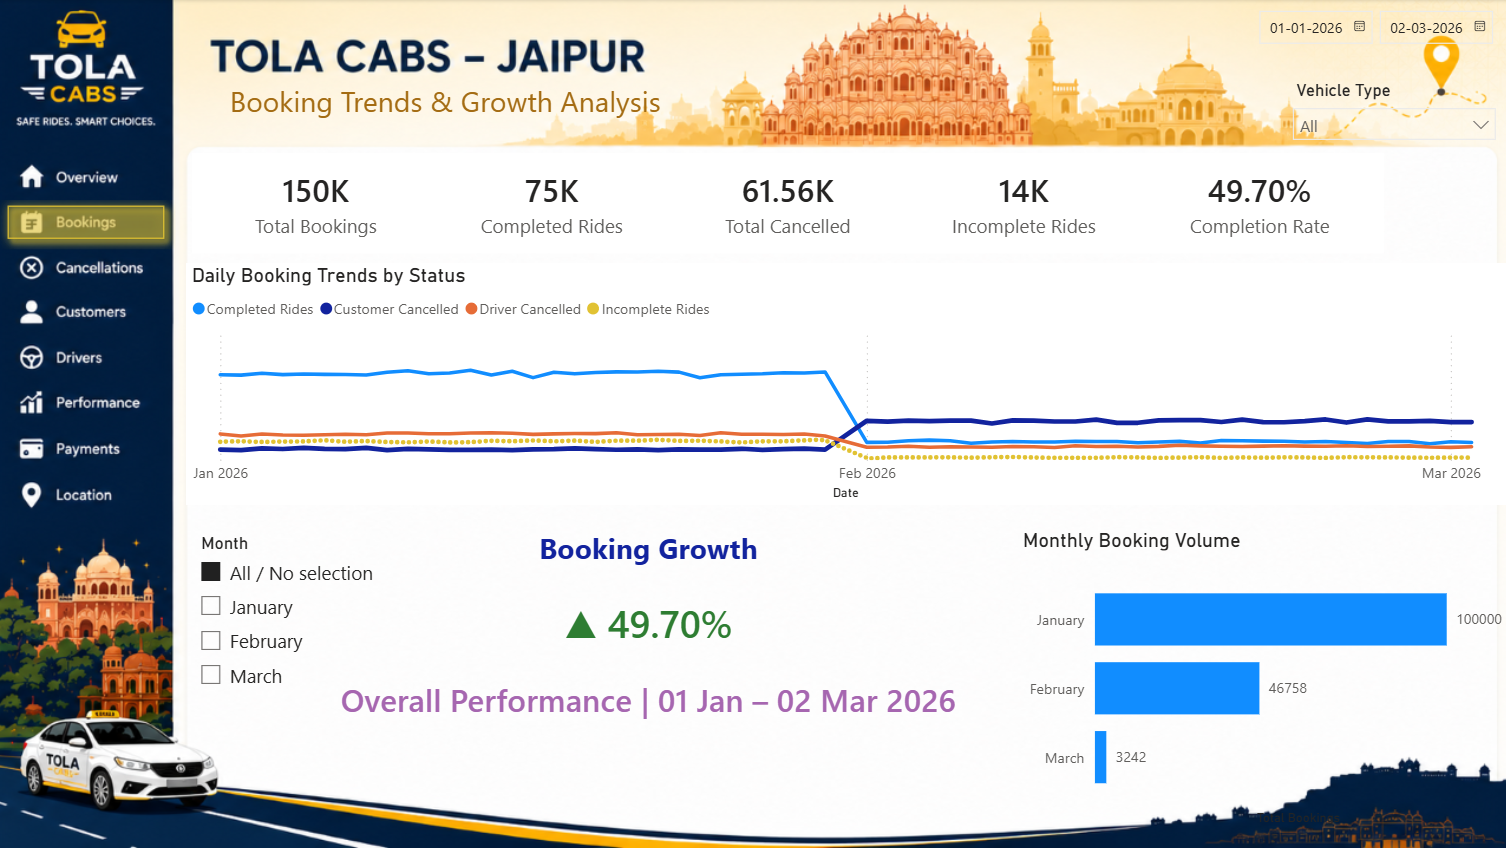

This screenshot's page, from the dashboard's own definition file:
{"tool":"powerbi","page":{"name":"02_Bookings","canvas":[1280,720],"ordinal":1},"visuals":[{"type":"shape","box":[0,165.8,150.7,46.1],"z":0},{"type":"actionButton","box":[0,401.1,150.6,42.9],"z":1000},{"type":"actionButton","box":[1.2,365.9,151,39.5],"z":2000},{"type":"actionButton","box":[1.2,326.4,149.8,39.5],"z":3000},{"type":"actionButton","box":[0,286.9,149.8,39.5],"z":4000},{"type":"actionButton","box":[1.2,247.4,149.8,39.5],"z":5000},{"type":"actionButton","box":[2.3,126.6,149.8,39.5],"z":6000},{"type":"actionButton","box":[1.2,210.2,149.8,39.5],"z":7000},{"type":"slicer","title":"Daily Booking Trends by Status","fields":{"Values":["Booking Month Selector.Month"]},"box":[160,448,176,192],"z":8000},{"type":"cardVisual","title":"Booking Growth","fields":{"Data":["_Measures.Dynamic Booking Growth Display","_Measures.Booking Growth Comparison"]},"box":[256,448,592,256],"z":9000},{"type":"barChart","title":"Monthly Booking Volume","fields":{"Category":["Calendar.Month"],"Y":["_Measures.Total Bookings"]},"box":[864,448,416,256],"z":10000},{"type":"cardVisual","fields":{"Data":["_Measures.Total Bookings"]},"box":[160,125,220,95],"z":11000},{"type":"cardVisual","fields":{"Data":["_Measures.Completed Rides"]},"box":[360,125,220,95],"z":12000},{"type":"cardVisual","fields":{"Data":["_Measures.Total Cancelled"]},"box":[560,125,220,95],"z":13000},{"type":"cardVisual","fields":{"Data":["_Measures.Incomplete Rides"]},"box":[760,125,220,95],"z":14000},{"type":"cardVisual","fields":{"Data":["_Measures.Completion Rate"]},"box":[960,125,220,95],"z":15000},{"type":"lineChart","title":"Daily Booking Trends by Status","fields":{"Category":["Calendar.Date"],"Y":["_Measures.Completed Rides","_Measures.Customer Cancelled","_Measures.Driver Cancelled","_Measures.Incomplete Rides"]},"box":[160,224,1120,205],"z":16000},{"type":"slicer","fields":{"Values":["tola bookings.Vehicle_Type"]},"box":[1088,64,192,64],"z":17000},{"type":"slicer","fields":{"Values":["Calendar.Date"]},"box":[1056,0,219.5,69.7],"z":18000},{"type":"textbox","box":[192,64,424,48],"z":19000}]}

Visuals, with their boxes on the page's 1280x720 design canvas (x1, y1, x2, y2). These are canvas units, not pixel positions in the 1506x848 screenshot, which may show the page scaled, cropped or inside an application window:
shape: 0/166/151/212
actionButton: 0/401/151/444
actionButton: 1/366/152/405
actionButton: 1/326/151/366
actionButton: 0/287/150/326
actionButton: 1/247/151/287
actionButton: 2/127/152/166
actionButton: 1/210/151/250
"Daily Booking Trends by Status" slicer: 160/448/336/640
"Booking Growth" cardVisual: 256/448/848/704
"Monthly Booking Volume" barChart: 864/448/1280/704
cardVisual - _Measures.Total Bookings: 160/125/380/220
cardVisual - _Measures.Completed Rides: 360/125/580/220
cardVisual - _Measures.Total Cancelled: 560/125/780/220
cardVisual - _Measures.Incomplete Rides: 760/125/980/220
cardVisual - _Measures.Completion Rate: 960/125/1180/220
"Daily Booking Trends by Status" lineChart: 160/224/1280/429
slicer - tola bookings.Vehicle_Type: 1088/64/1280/128
slicer - Calendar.Date: 1056/0/1276/70
textbox: 192/64/616/112
